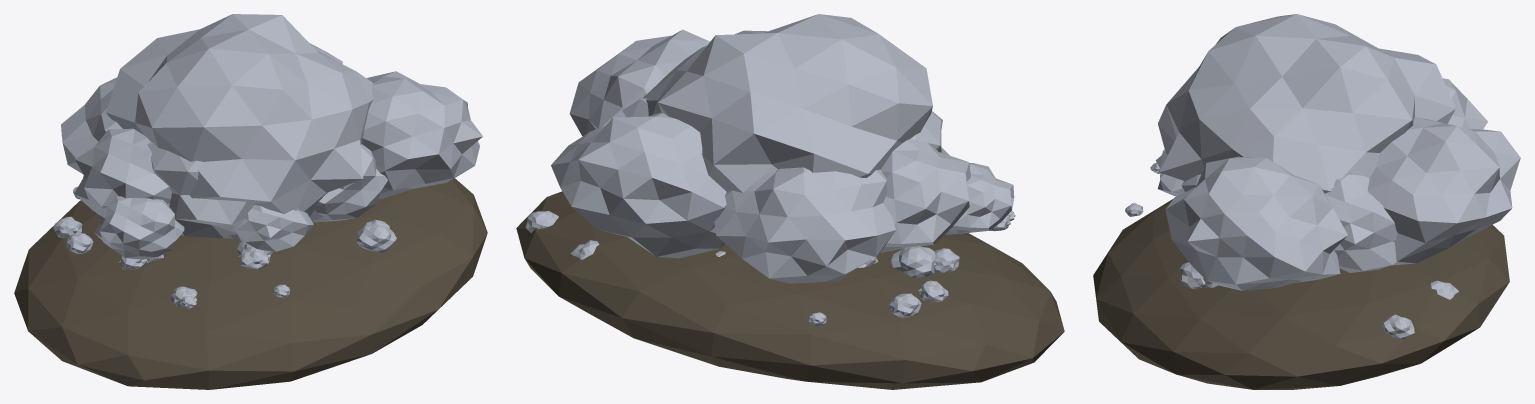
The model's file is native-platinum.glb.
3 views of the same model, side by side, from view 1: azimuth 30°, elevation 25°; view 2: azimuth 150°, elevation 25°; view 3: azimuth 270°, elevation 25° (orthographic). The views are drawn at different scales.
Parts seen in each view (by area): view 1: Platinum tự sinh; view 2: Platinum tự sinh; view 3: Platinum tự sinh.
Part boxes in pixels (x1,y1,x2,y2): Platinum tự sinh: (14,14,487,389); Platinum tự sinh: (516,14,1064,389); Platinum tự sinh: (1093,14,1520,389).
Bounding box in the file's own units: 3.96 × 2.44 × 3.11.
